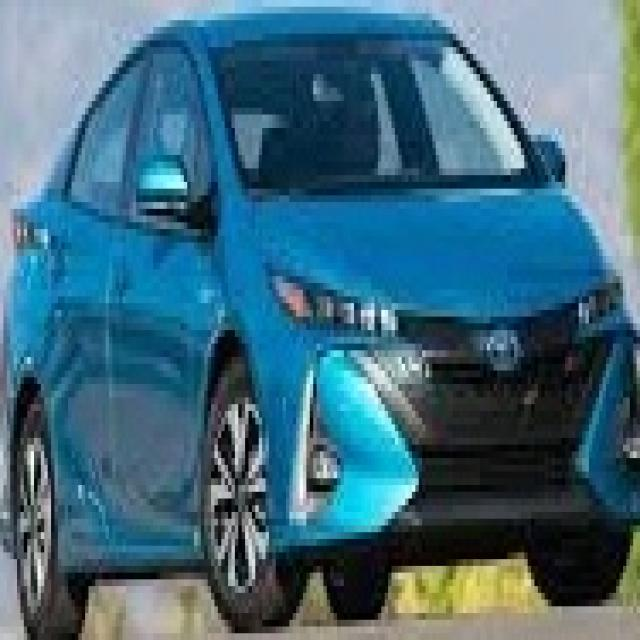blue: (7, 14, 640, 559)
